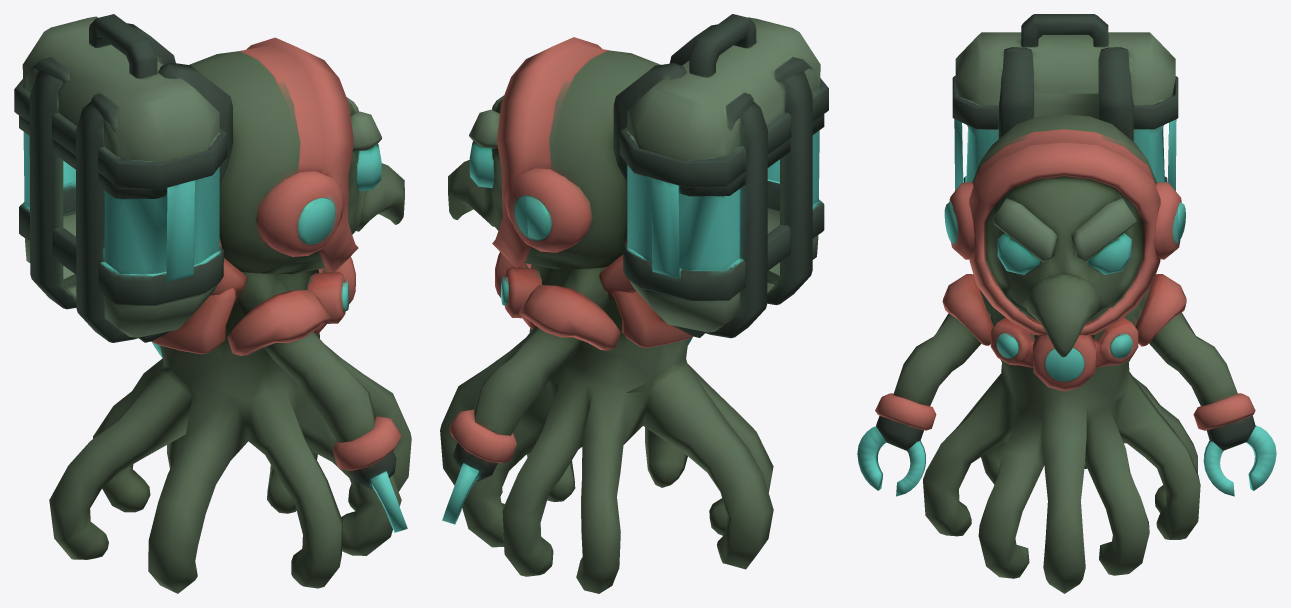
Rendered from water_worker_v2.glb.
The picture shows the model from 3 angles, left to right: view 1: azimuth 30°, elevation 25°; view 2: azimuth 150°, elevation 25°; view 3: azimuth 270°, elevation 25°; orthographic projection. The views are drawn at different scales.
Visible parts, largest first — view 1: tripo_node_495ec937-4593-4cff-964a-23b766323b81; view 2: tripo_node_495ec937-4593-4cff-964a-23b766323b81; view 3: tripo_node_495ec937-4593-4cff-964a-23b766323b81.
Boxes of the visible parts, x1,y1,x2,y2 form: tripo_node_495ec937-4593-4cff-964a-23b766323b81: (14, 14, 411, 593); tripo_node_495ec937-4593-4cff-964a-23b766323b81: (440, 14, 828, 593); tripo_node_495ec937-4593-4cff-964a-23b766323b81: (857, 14, 1276, 593).
Size of the model in its own units: 0.6606 by 0.9995 by 0.8003.
1 material, 1 textured.
